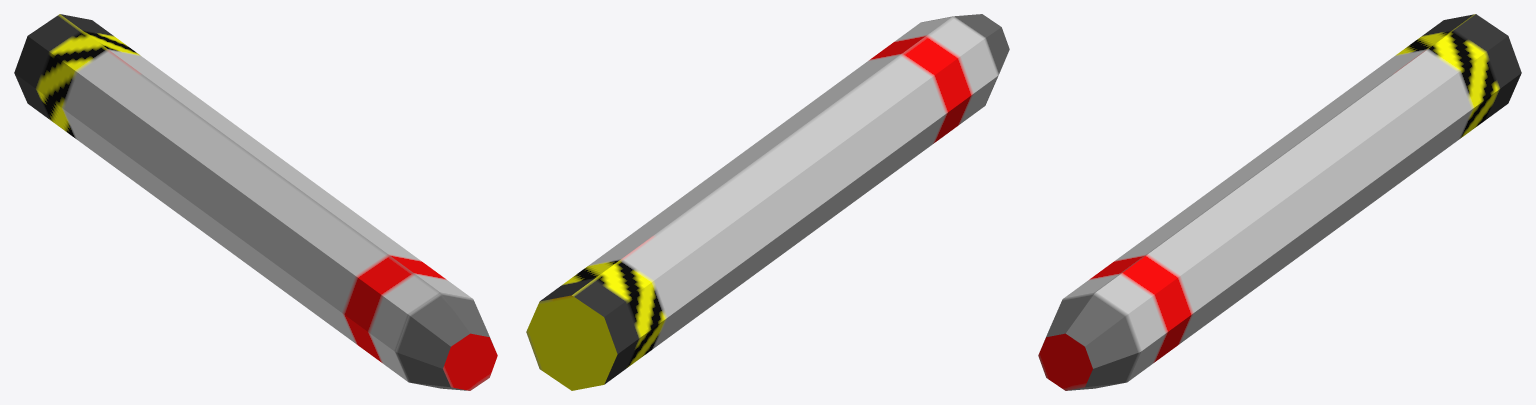
The model's file is missile_sm.obj.
The picture shows the model from 3 angles, left to right: view 1: azimuth 30°, elevation 25°; view 2: azimuth 150°, elevation 25°; view 3: azimuth 330°, elevation 25°; orthographic projection.
Visible parts, largest first — view 1: missile_sm_Cube.010; view 2: missile_sm_Cube.010; view 3: missile_sm_Cube.010.
Boxes of the visible parts, x1,y1,x2,y2 form: missile_sm_Cube.010: (14, 14, 497, 390); missile_sm_Cube.010: (526, 14, 1009, 390); missile_sm_Cube.010: (1038, 14, 1521, 390).
Bounding box in the file's own units: 0.054 × 0.054 × 0.42.
1 material, 1 textured.
